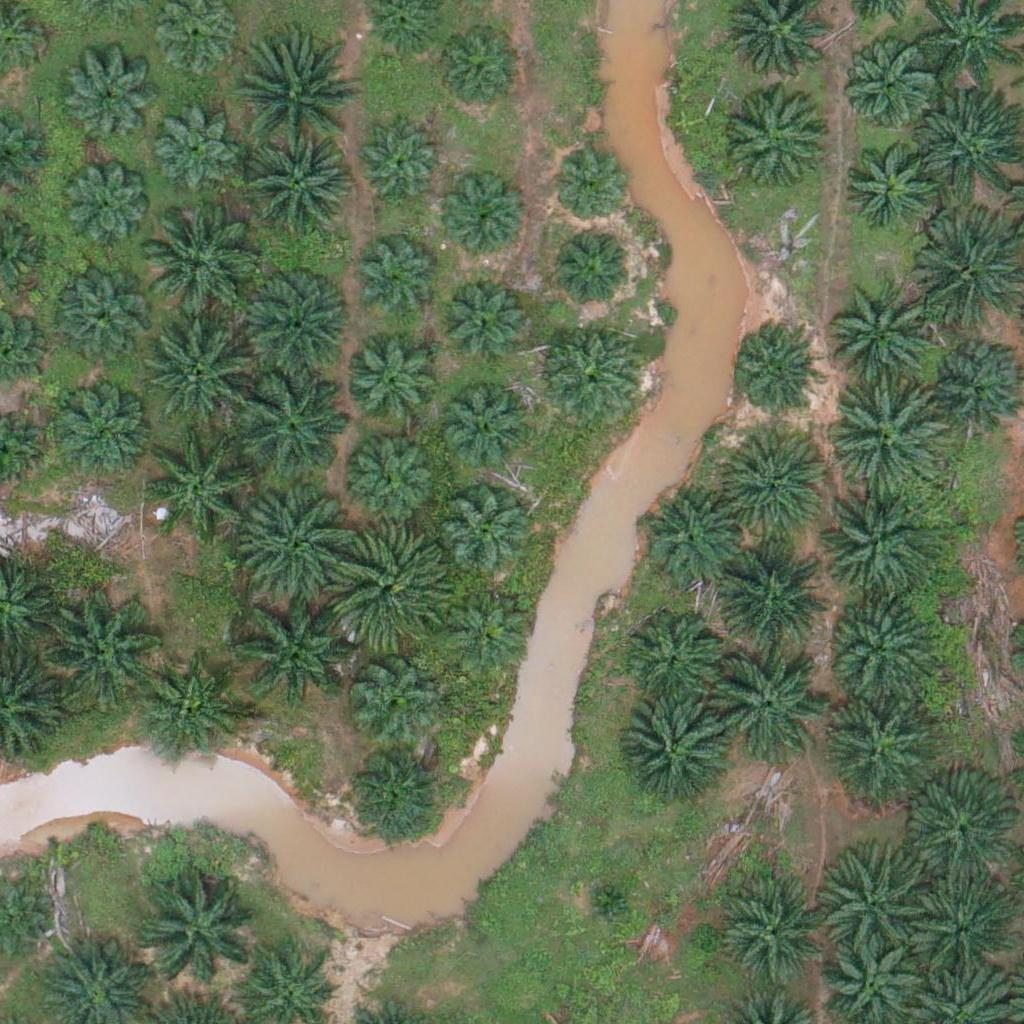Kelapa_Sawit: (828, 587, 941, 701), (819, 492, 932, 606), (717, 428, 830, 542), (234, 265, 347, 379), (616, 699, 729, 812), (142, 868, 255, 981), (333, 529, 446, 642), (241, 42, 354, 155), (238, 363, 351, 476), (716, 536, 828, 650), (245, 490, 357, 604), (909, 782, 1021, 895), (820, 690, 932, 803), (820, 838, 932, 951), (708, 647, 820, 760), (234, 592, 346, 705), (45, 592, 157, 705), (830, 269, 942, 382), (834, 383, 946, 496), (239, 135, 351, 248), (146, 429, 258, 542), (146, 320, 258, 433), (142, 208, 254, 321), (623, 609, 723, 710), (836, 36, 936, 137), (840, 132, 940, 233), (729, 88, 829, 189), (542, 321, 642, 422), (434, 382, 534, 483), (51, 275, 151, 376), (642, 489, 742, 590), (912, 879, 1012, 979), (723, 887, 823, 987), (344, 744, 444, 844), (141, 665, 241, 765), (344, 428, 444, 528), (348, 332, 448, 432), (50, 381, 150, 481), (348, 651, 436, 739), (431, 25, 519, 113), (445, 586, 533, 674), (354, 235, 442, 323), (63, 61, 151, 149), (63, 162, 151, 250), (730, 322, 817, 410), (353, 121, 440, 209), (442, 178, 529, 266), (549, 224, 636, 312), (443, 494, 530, 582), (438, 273, 525, 361), (152, 107, 239, 195), (552, 151, 627, 227), (581, 874, 631, 925)
